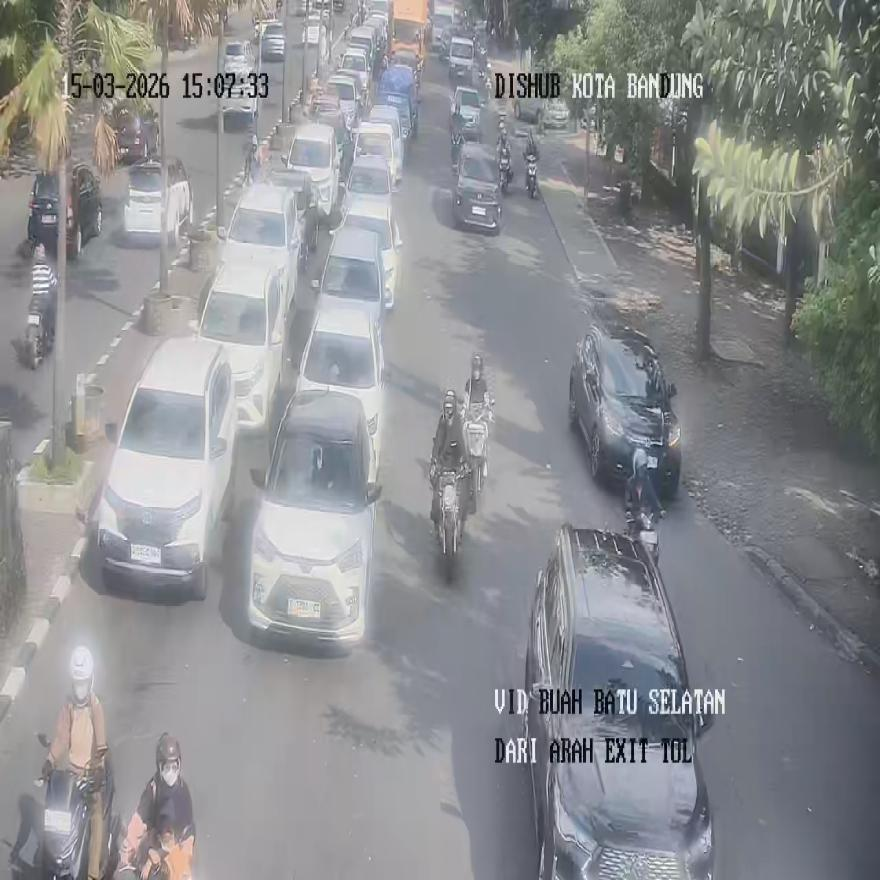Motor: (522, 523, 714, 878), (94, 336, 237, 598), (246, 389, 382, 644), (568, 323, 682, 496), (197, 256, 285, 436), (294, 300, 385, 470), (220, 182, 298, 320), (27, 160, 101, 260), (124, 155, 191, 248)
Truk: (36, 733, 120, 880), (624, 449, 664, 562), (431, 462, 468, 579), (462, 396, 494, 505), (30, 243, 58, 353), (26, 292, 54, 370), (498, 142, 513, 192), (525, 154, 539, 198)
